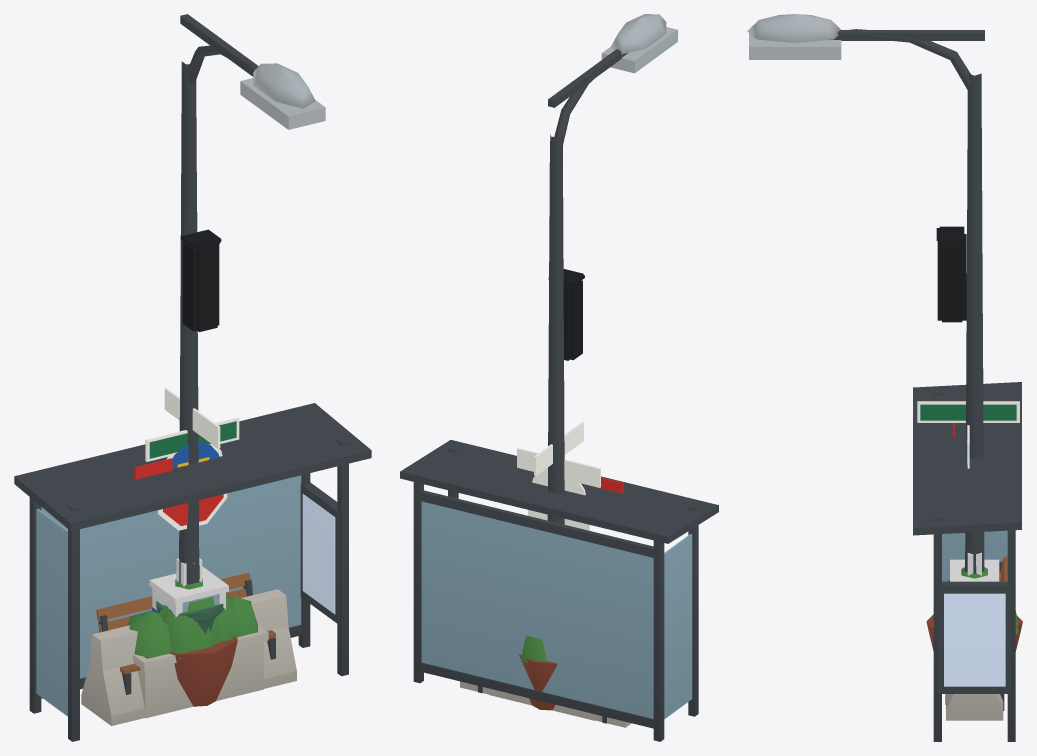
File: streetkit.c73993e4.glb
3 renders of one model, left to right at view 1: azimuth 30°, elevation 25°; view 2: azimuth 150°, elevation 25°; view 3: azimuth 270°, elevation 25°, orthographic. The views are drawn at different scales.
Visible parts, largest first — view 1: busstop, streetlight, planter, barrier, planter_round, signal, streetlight_far, sign_street, bench, newsbox, sign_stop, sign_bus (+1 smaller); view 2: busstop, streetlight, streetlight_far, signal, sign_street, planter_round, planter; view 3: busstop, streetlight, signal, streetlight_far, sign_street, barrier, newsbox, planter_round.
Boxes of the visible parts, x1,y1,x2,y2 form: busstop: [14, 403, 371, 741]; streetlight: [179, 45, 315, 584]; planter: [127, 595, 268, 718]; barrier: [81, 589, 296, 725]; planter_round: [162, 579, 237, 706]; signal: [180, 204, 221, 332]; streetlight_far: [179, 14, 325, 563]; sign_street: [145, 387, 239, 461]; bench: [96, 572, 275, 694]; newsbox: [149, 567, 228, 616]; sign_stop: [157, 493, 227, 530]; sign_bus: [166, 442, 222, 468]; busstop: [400, 440, 718, 741]; streetlight: [547, 14, 666, 524]; streetlight_far: [548, 27, 677, 523]; signal: [548, 262, 584, 360]; sign_street: [517, 421, 600, 487]; planter_round: [519, 635, 557, 710]; planter: [489, 688, 595, 720]; busstop: [913, 382, 1021, 741]; streetlight: [747, 14, 984, 573]; signal: [936, 209, 982, 322]; streetlight_far: [749, 30, 984, 261]; sign_street: [917, 401, 1019, 464]; barrier: [946, 694, 1003, 720]; newsbox: [950, 559, 999, 581]; planter_round: [926, 567, 1022, 651].
Bounding box in the file's own units: 3.24 × 7.13 × 2.69.
1 material, 1 textured.
